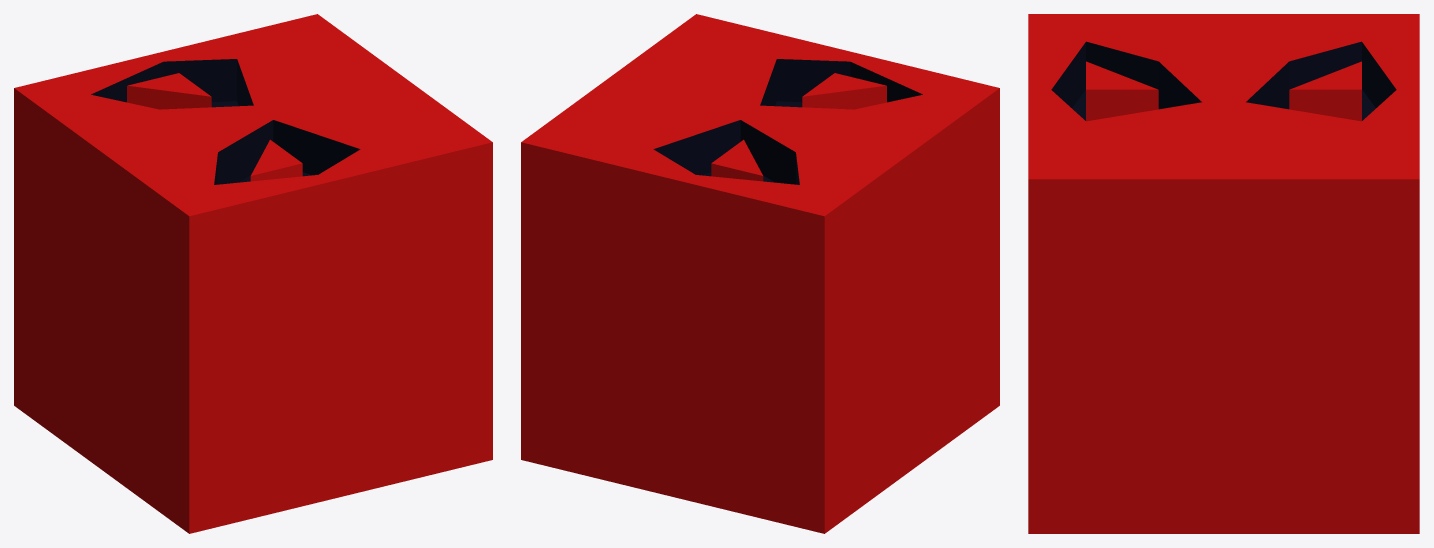
3 views of the same model, side by side, from view 1: azimuth 30°, elevation 25°; view 2: azimuth 150°, elevation 25°; view 3: azimuth 270°, elevation 25° (orthographic). The views are drawn at different scales.
Parts seen in each view (by area): view 1: Cube; view 2: Cube; view 3: Cube.
Part boxes in pixels (x1,y1,x2,y2): Cube: (14,14,492,533); Cube: (521,14,999,533); Cube: (1028,14,1419,533).
Bounding box in the file's own units: 200 × 200 × 200.
